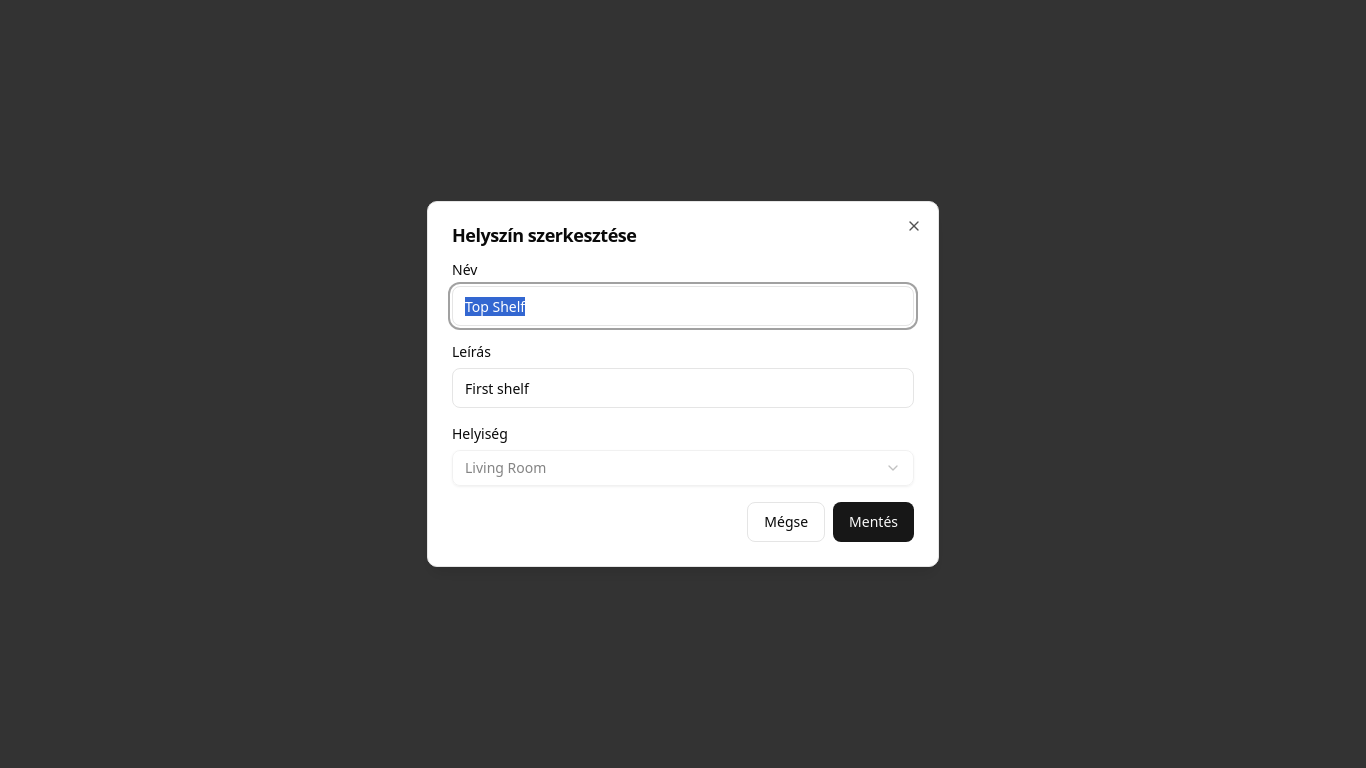
Test case: LocationFormModal — edit mode › shows conflict error on 409 response
This screenshot has width=1366, height=768.
Step 1. Click the button "Mentés" → (874, 522), box [833,502,914,542]
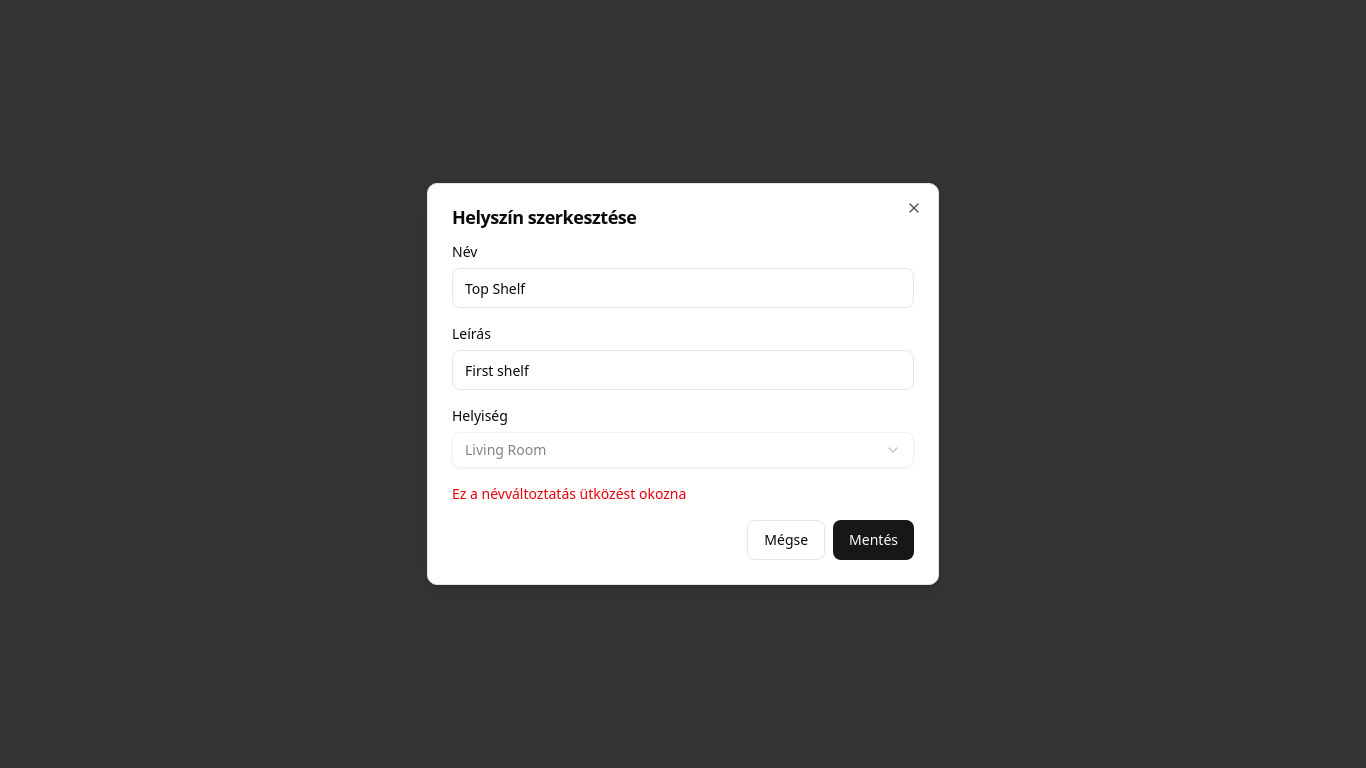
Result: the text "Ez a névváltoztatás ütközést okozna" is shown at [452,484,686,503]
